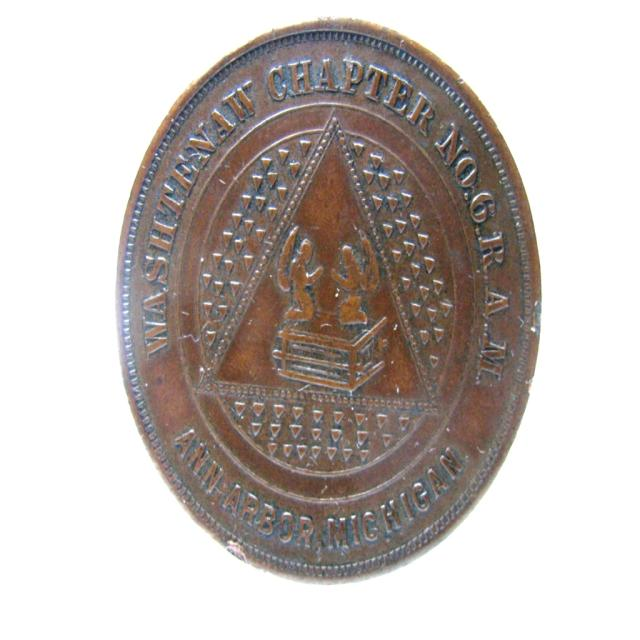Coin: (118, 20, 541, 583)
